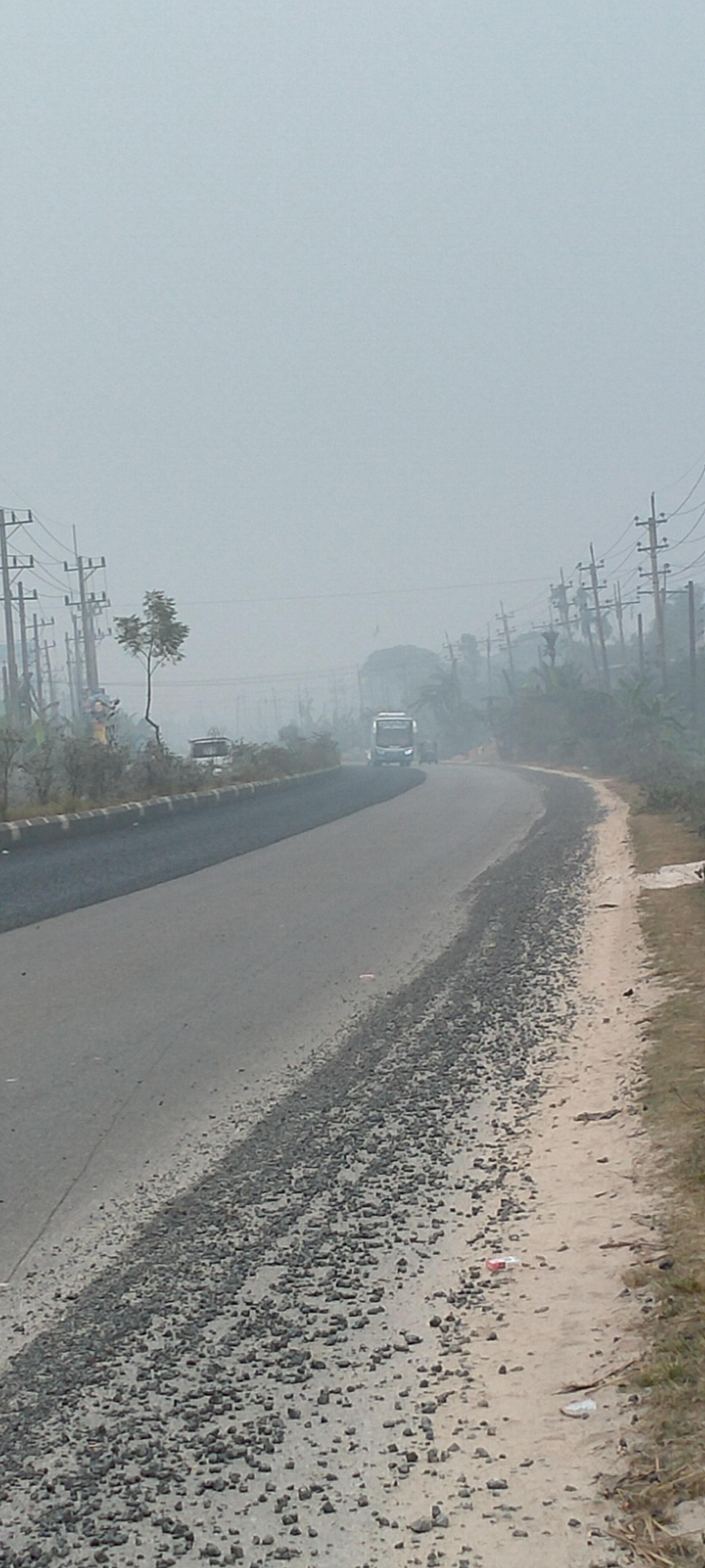Bus: (359, 697, 427, 779)
Car: (184, 727, 255, 797)
